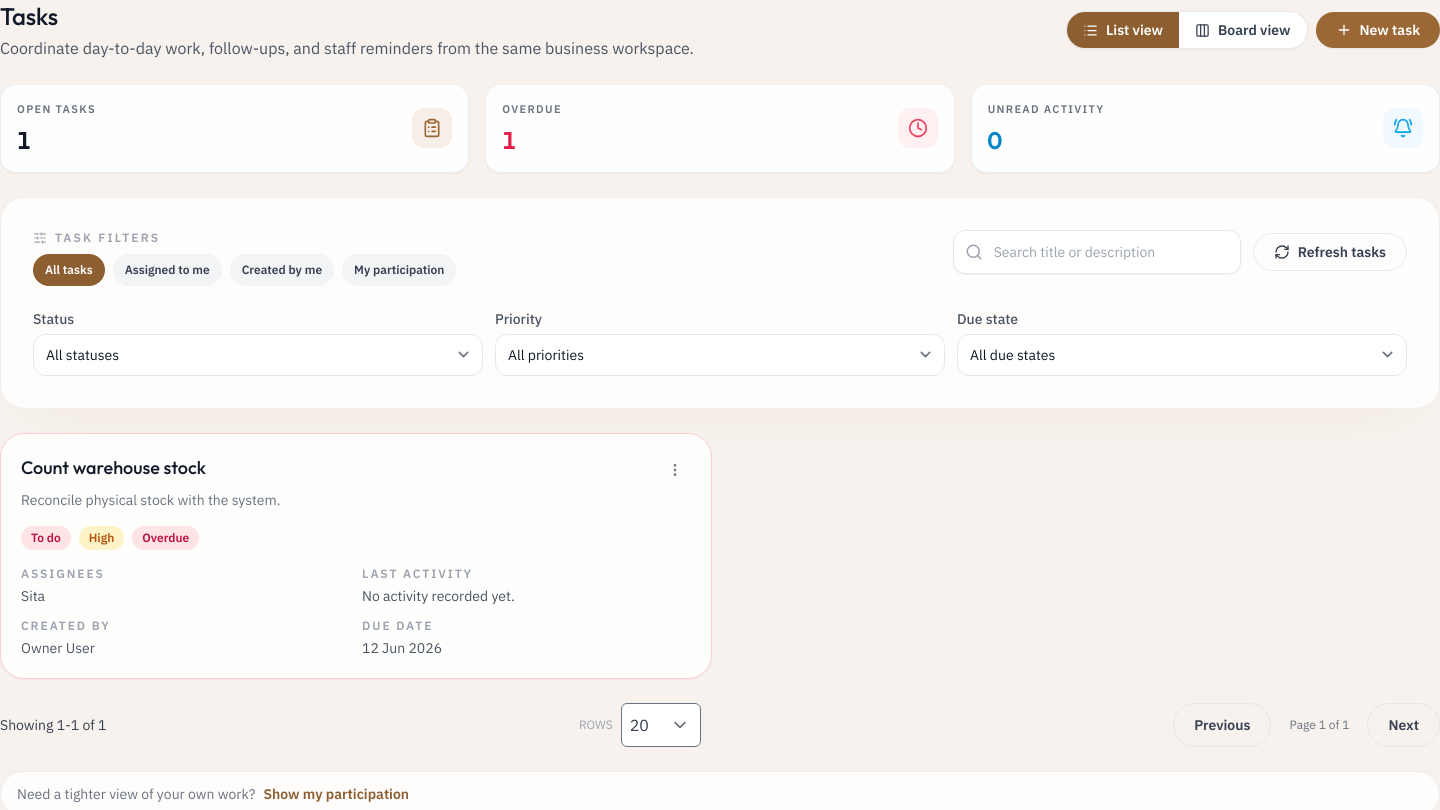
Tasks › opens the task detail flow from the card view action
Check: the heading "Count warehouse stock" is shown, box [21,454,206,482]
Click the button titled "Actions" at [675, 470], box [659,454,691,486]
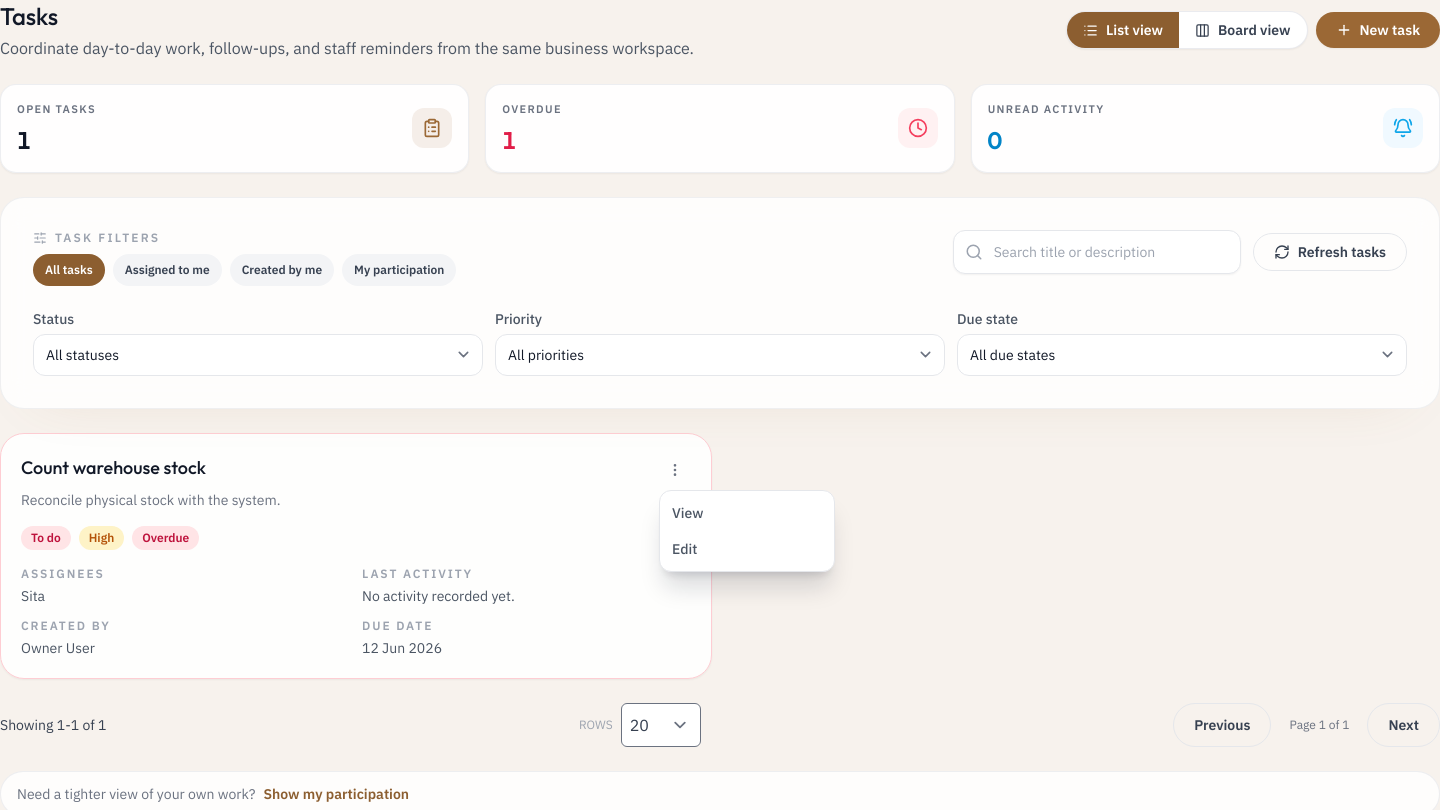
Click the link "View" at [688, 512], box [672,504,703,522]
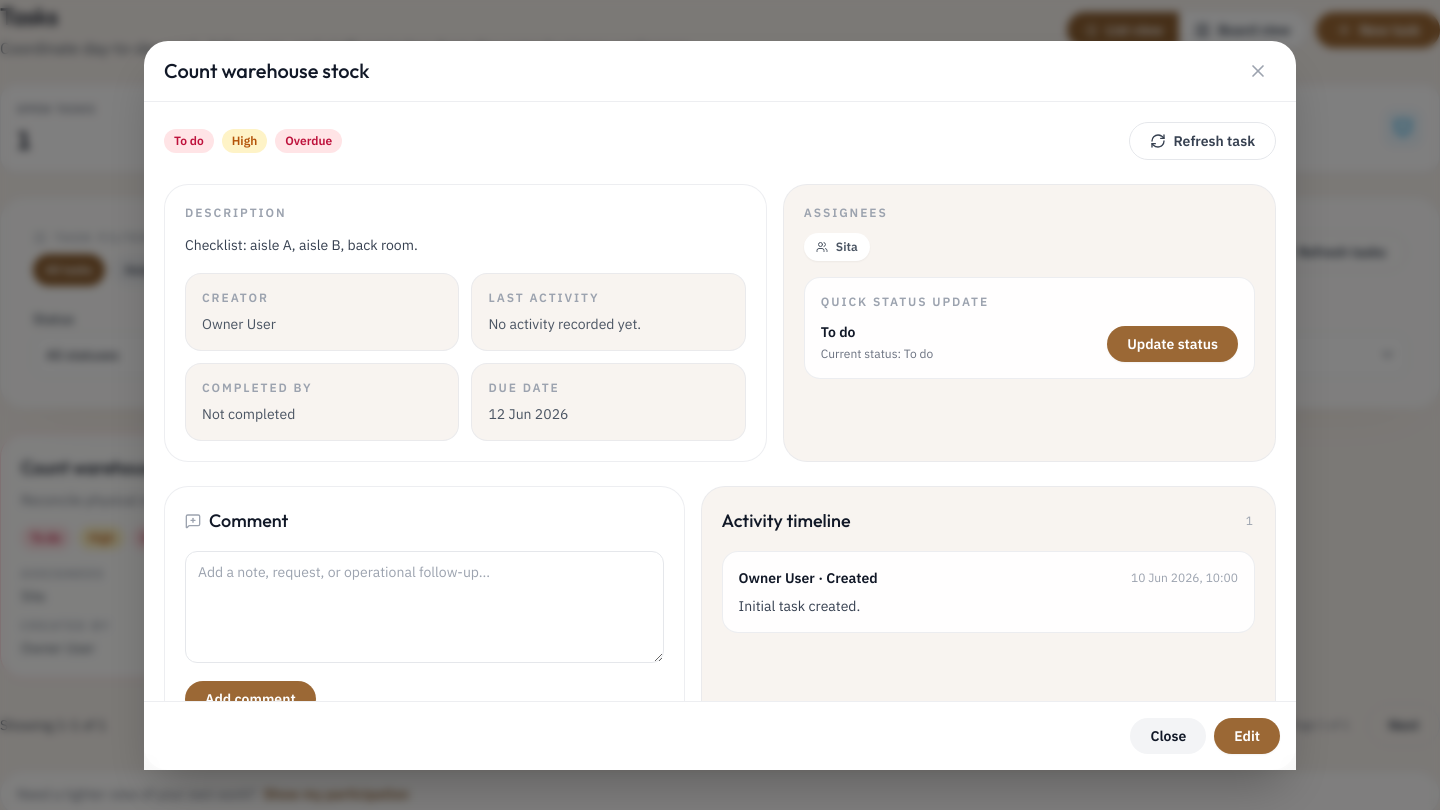
Check: the text "Checklist: aisle A, aisle B, back room." is shown, box [185,236,418,254]
Check: the text "Initial task created." is shown, box [739,596,860,614]
